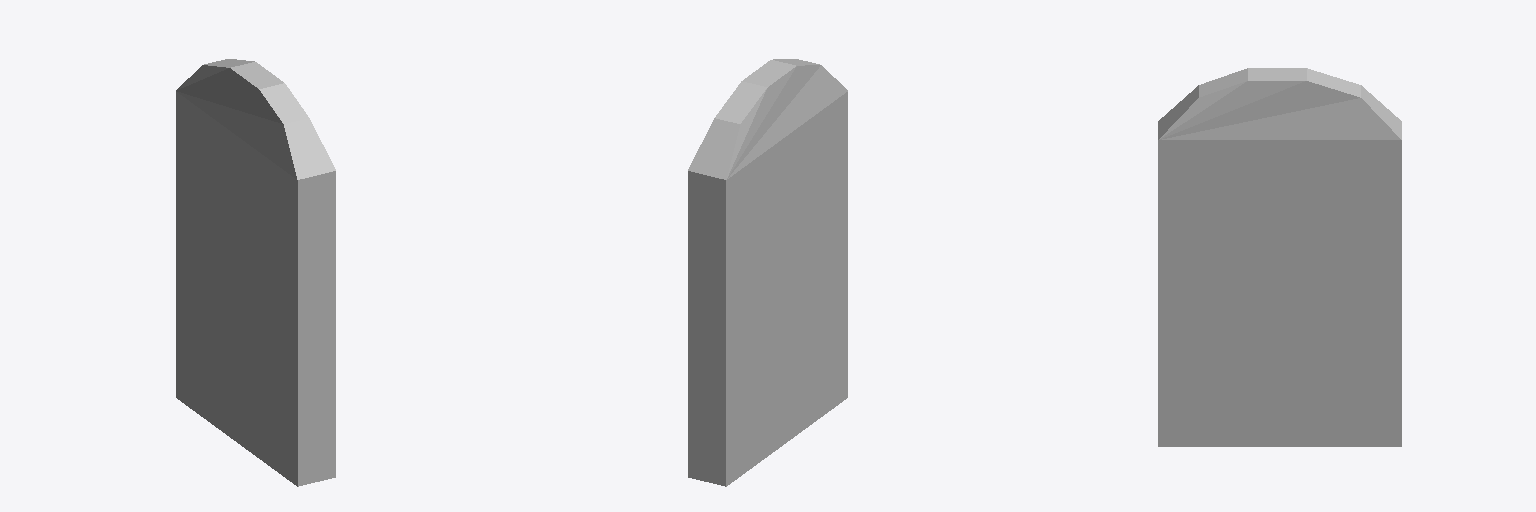
Rendered from Tombstone.obj.
3 views of the same model, side by side, from view 1: azimuth 30°, elevation 25°; view 2: azimuth 150°, elevation 25°; view 3: azimuth 270°, elevation 25° (orthographic).
Visible parts, largest first — view 1: Tombstone; view 2: Tombstone; view 3: Tombstone.
Part boxes in pixels (x1,y1,x2,y2): Tombstone: (176, 59, 335, 486); Tombstone: (688, 59, 847, 486); Tombstone: (1158, 68, 1401, 446).
Bounding box in the file's own units: 2 × 17.87 × 10.88.